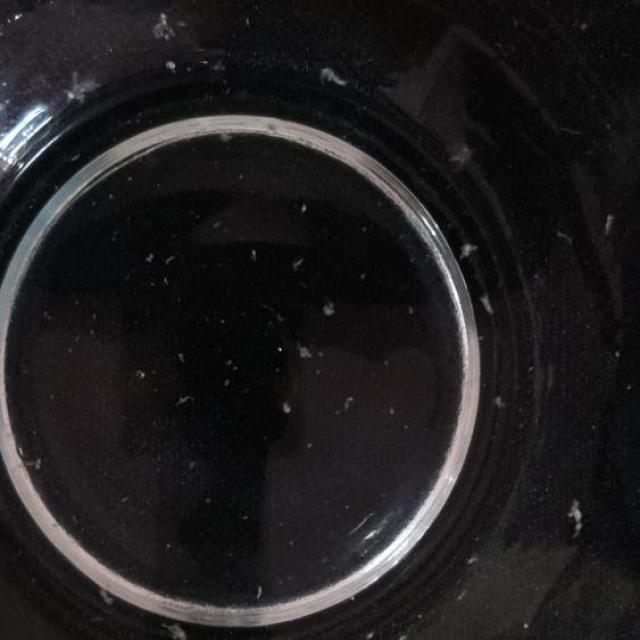fiber: (58, 58, 96, 106), (313, 55, 354, 98), (16, 438, 46, 478), (152, 11, 186, 44), (568, 493, 586, 545), (445, 139, 475, 168), (459, 230, 481, 266), (554, 221, 575, 257), (458, 551, 492, 572), (162, 614, 187, 640), (172, 388, 193, 414), (96, 576, 114, 606), (286, 250, 309, 270), (243, 244, 262, 268), (603, 209, 618, 238), (164, 49, 180, 76), (324, 288, 336, 324), (297, 199, 315, 223), (162, 249, 179, 273), (342, 391, 358, 414), (455, 587, 472, 608), (480, 289, 493, 315), (181, 453, 202, 469), (133, 363, 151, 381), (221, 355, 240, 372), (203, 214, 226, 228), (281, 396, 295, 418), (253, 584, 267, 606), (490, 391, 508, 407), (520, 615, 534, 635), (116, 488, 130, 507), (403, 300, 419, 316), (610, 344, 624, 362), (218, 128, 236, 142), (142, 246, 154, 266), (387, 402, 401, 419), (578, 16, 590, 32), (365, 621, 374, 640), (125, 174, 136, 187), (273, 342, 283, 355), (300, 346, 308, 361), (172, 350, 187, 358)
